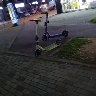beam: (39, 11, 70, 43)
gcooter: (27, 19, 63, 59)
